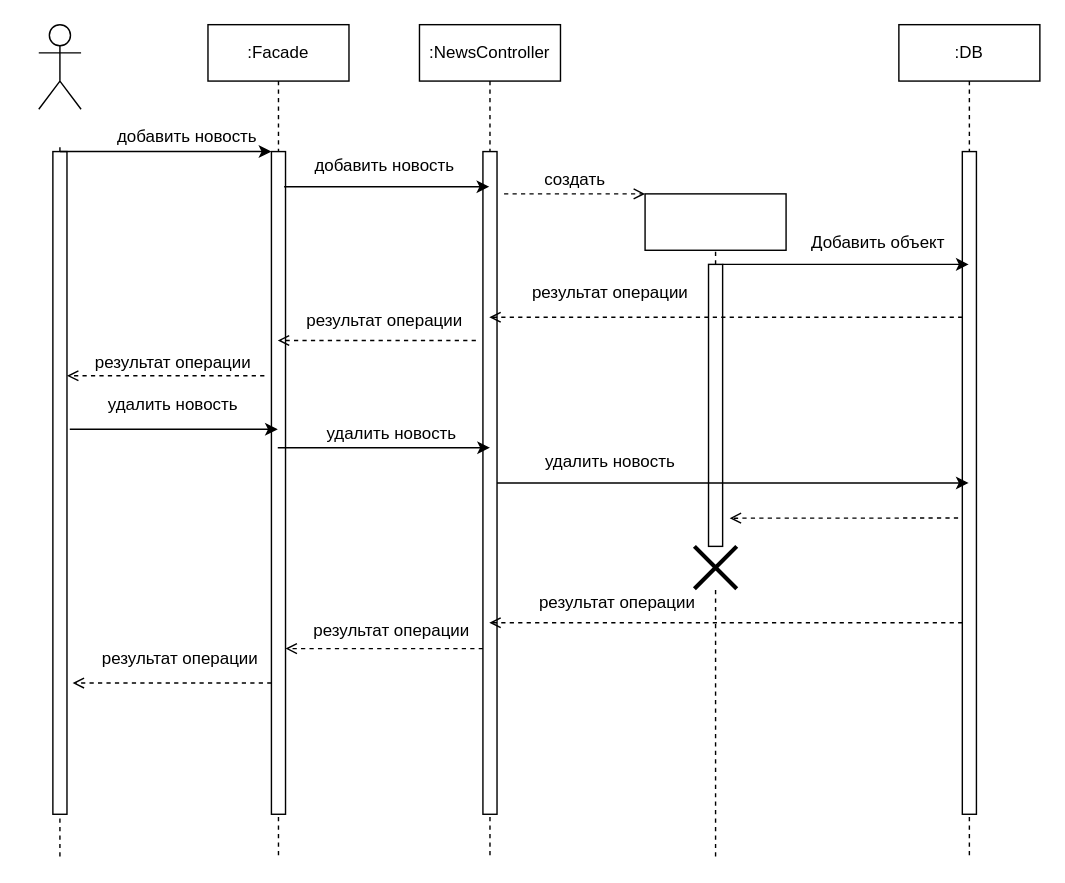
Image size: 1065x883. Some labels were removed from this diagram. The shapes that lost their labels are listed below. From the top down, each one's box as (x1, y1, x2, y2) in pixels, then its label:
(37, 23, 81, 109): а : Автор
(644, 192, 786, 250): n1 :News
